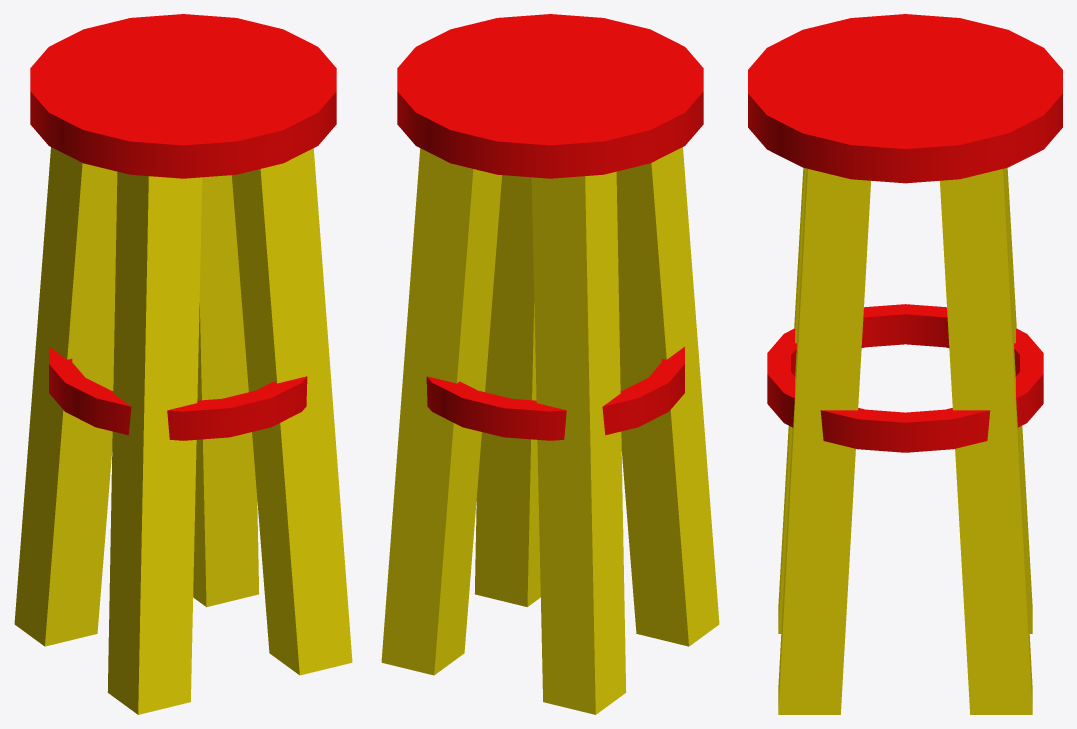
The model's file is Bar chair.FBX.
3 renders of one model, left to right at view 1: azimuth 30°, elevation 25°; view 2: azimuth 150°, elevation 25°; view 3: azimuth 270°, elevation 25°, orthographic. The views are drawn at different scales.
Parts seen in each view (by area): view 1: Box233, Cylinder004; view 2: Box233, Cylinder004; view 3: Box233, Cylinder004.
Boxes of the visible parts, bbox=[...] form: Box233: bbox=[14, 147, 352, 714]; Cylinder004: bbox=[30, 14, 336, 440]; Box233: bbox=[381, 147, 719, 714]; Cylinder004: bbox=[397, 14, 703, 440]; Box233: bbox=[778, 167, 1032, 714]; Cylinder004: bbox=[748, 14, 1062, 452].
Bounding box in the file's own units: 0.4 × 0.8 × 0.3939.
